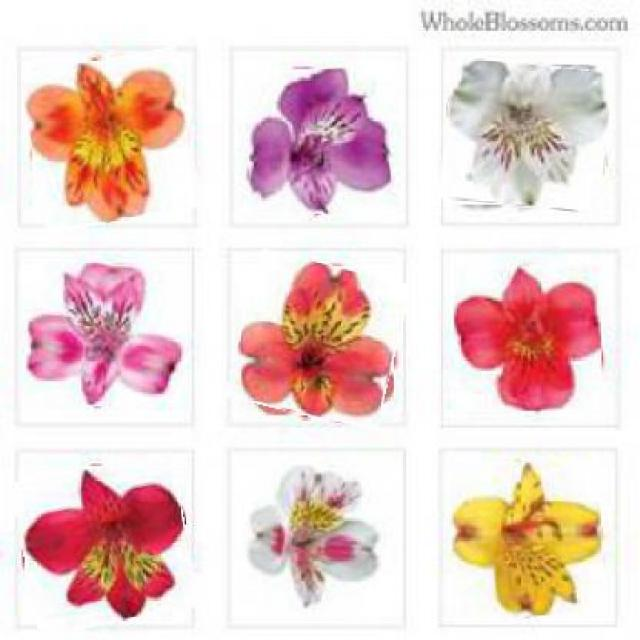Flower: (18, 460, 194, 629), (27, 52, 196, 226), (234, 258, 403, 425), (443, 61, 612, 210), (450, 459, 605, 619), (25, 261, 189, 410), (242, 464, 389, 616), (455, 265, 604, 413), (248, 68, 392, 217)
